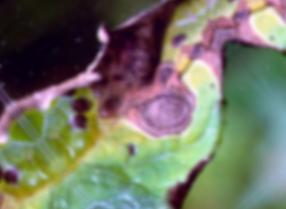Tomato Early blight leaf: (9, 0, 286, 209)
